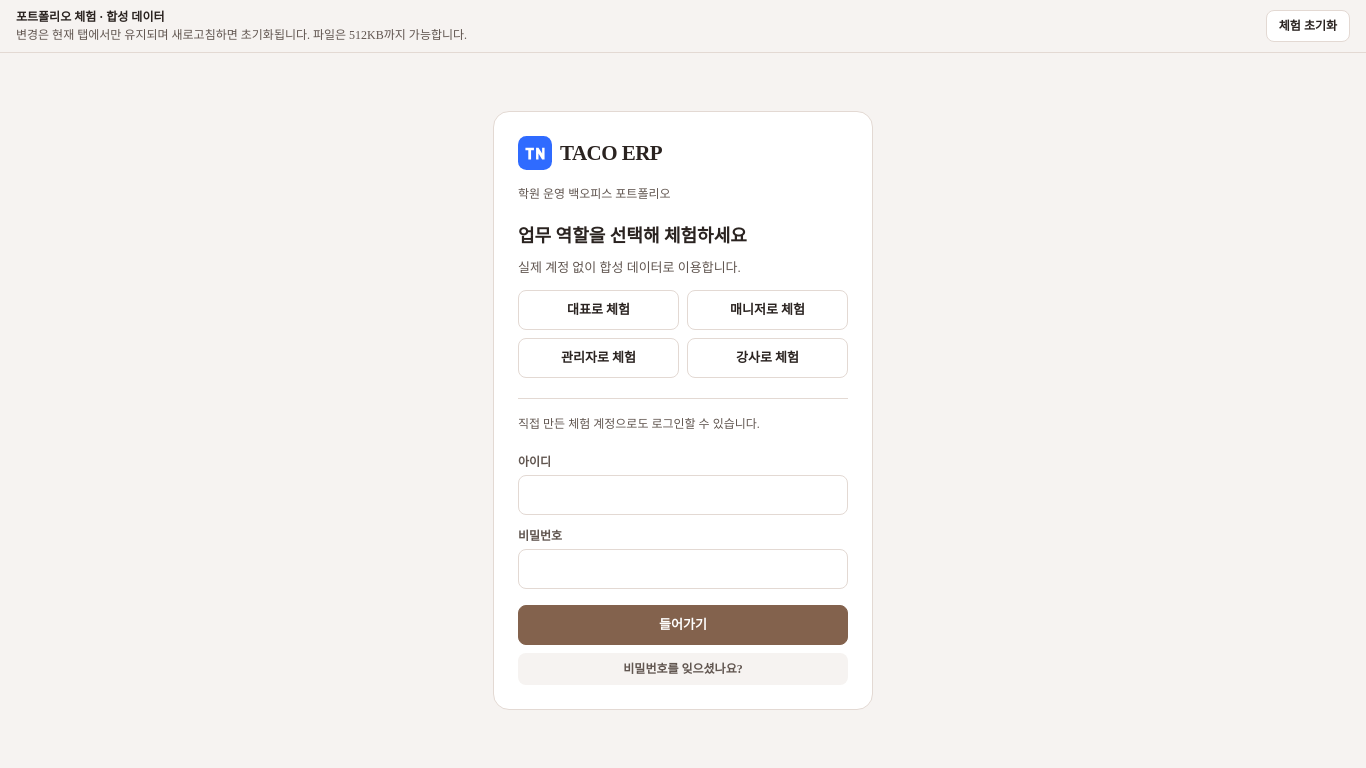
Test: LoginPage — 생성 로그인 계약 › 공용 시간 초과 문구를 표시하고 수동 재제출로 복구한다
This screenshot has width=1366, height=768.
Type "ceo@tnacademy.kr" into the field labelled "아이디". click: (683, 495)
box: [518,475,848,515]
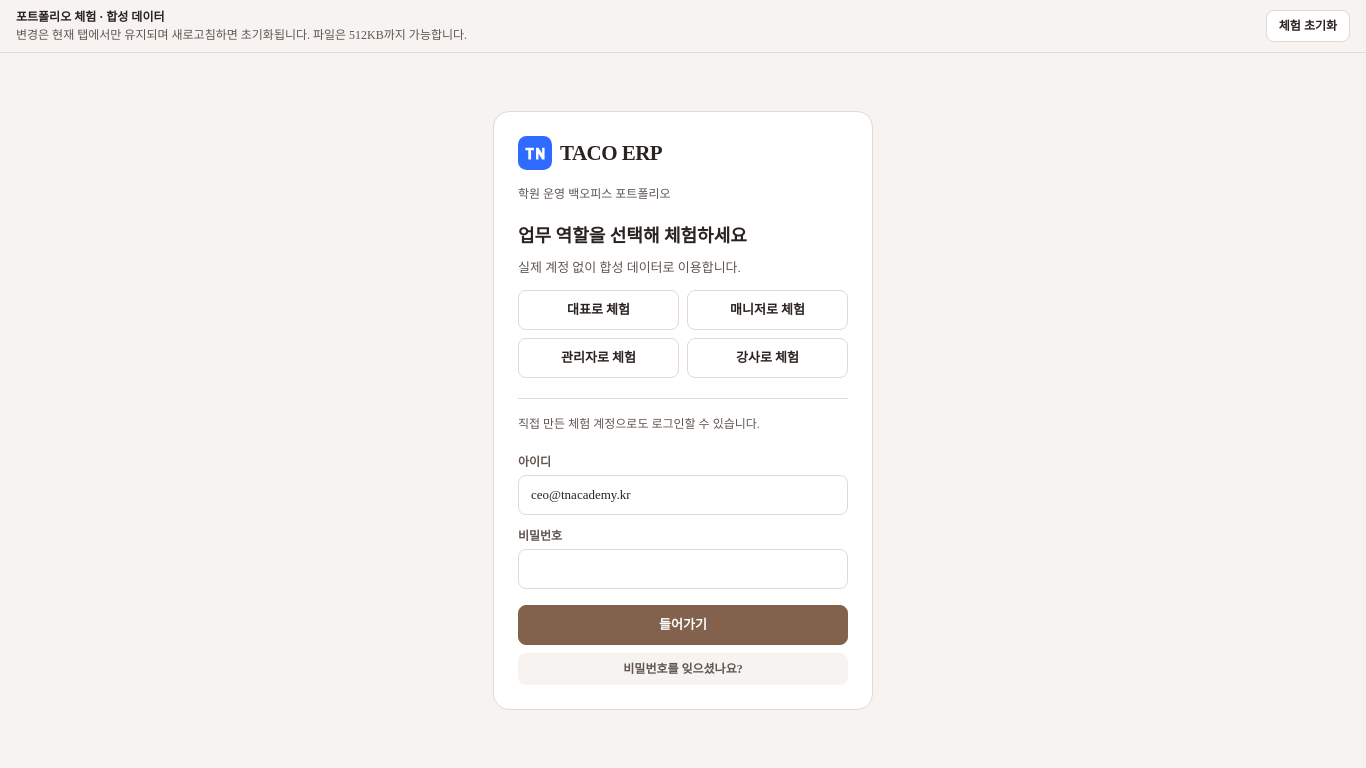
Type "private-password" into the password field labelled "비밀번호". click: (683, 569)
box: [518,549,848,589]
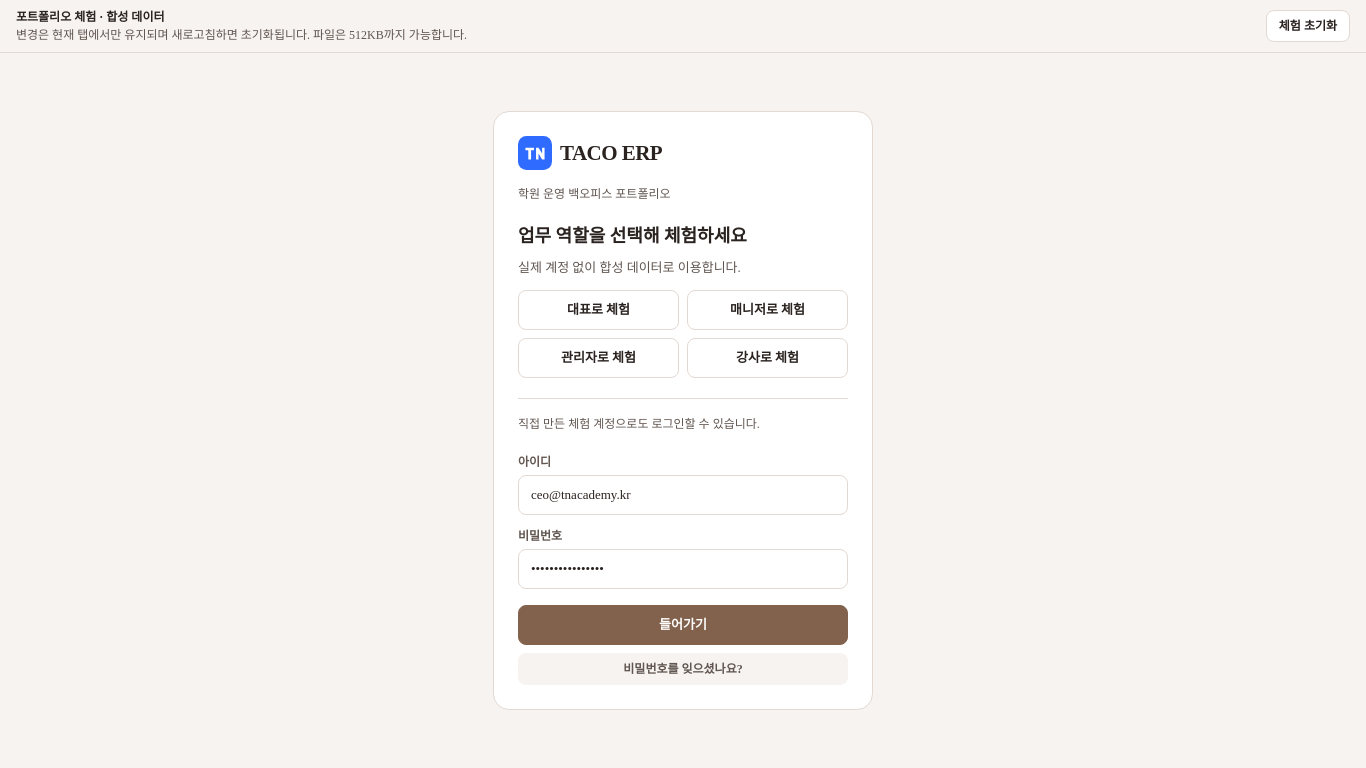
Click the button "들어가기". click: (683, 625)
box: [518,605,848,645]
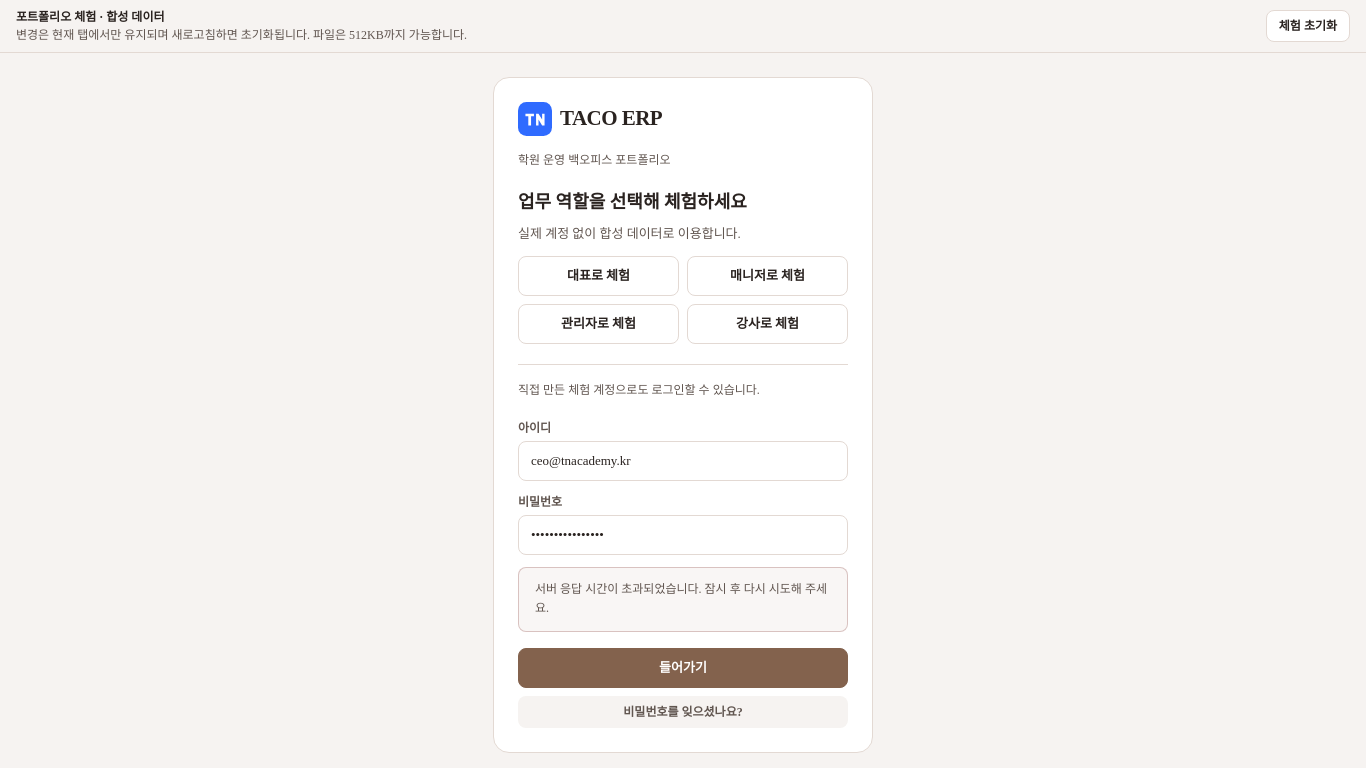
Now the text "서버 응답 시간이 초과되었습니다. 잠시 후 다시 시도해 주세요." is shown, box [518,566,848,632]
Click the button "들어가기". click: (683, 668)
box: [518,648,848,688]
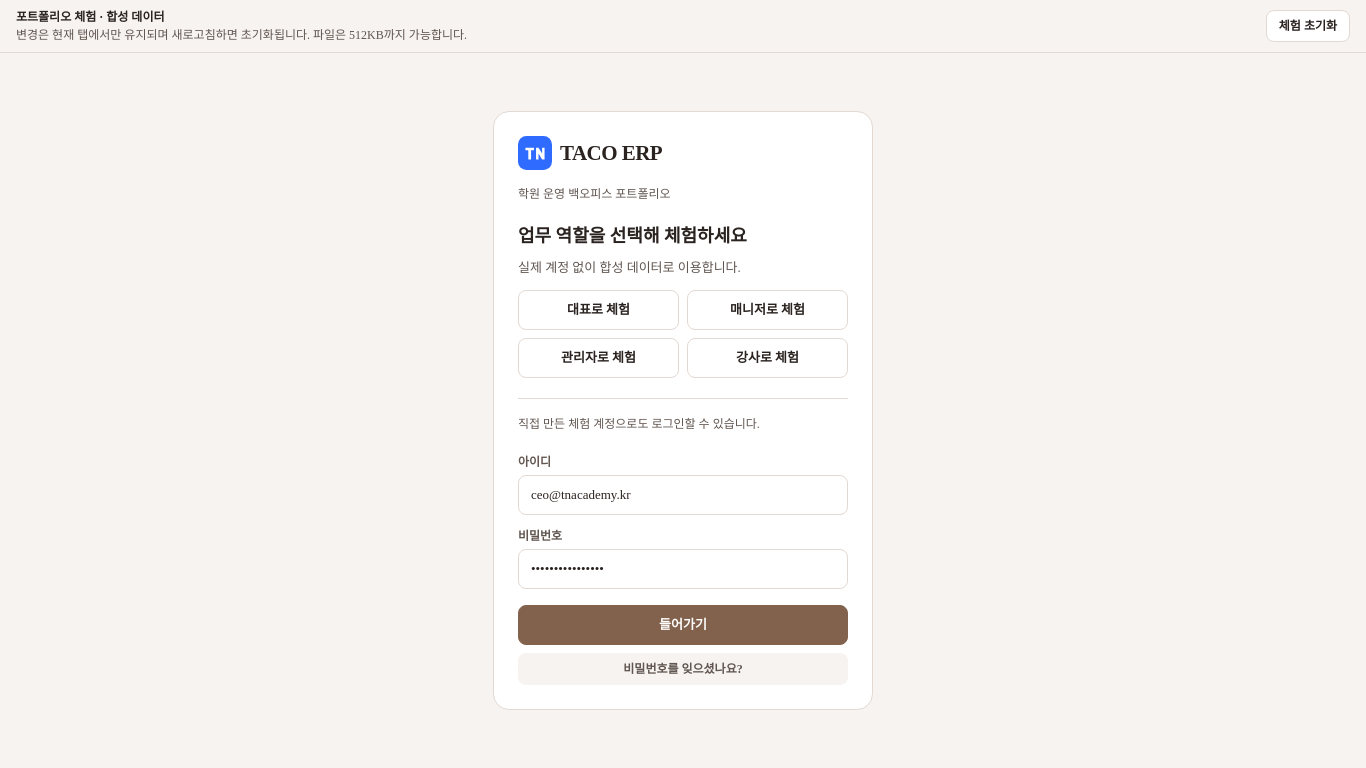
Now the text "서버 응답 시간이 초과되었습니다. 잠시 후 다시 시도해 주세요." is gone
